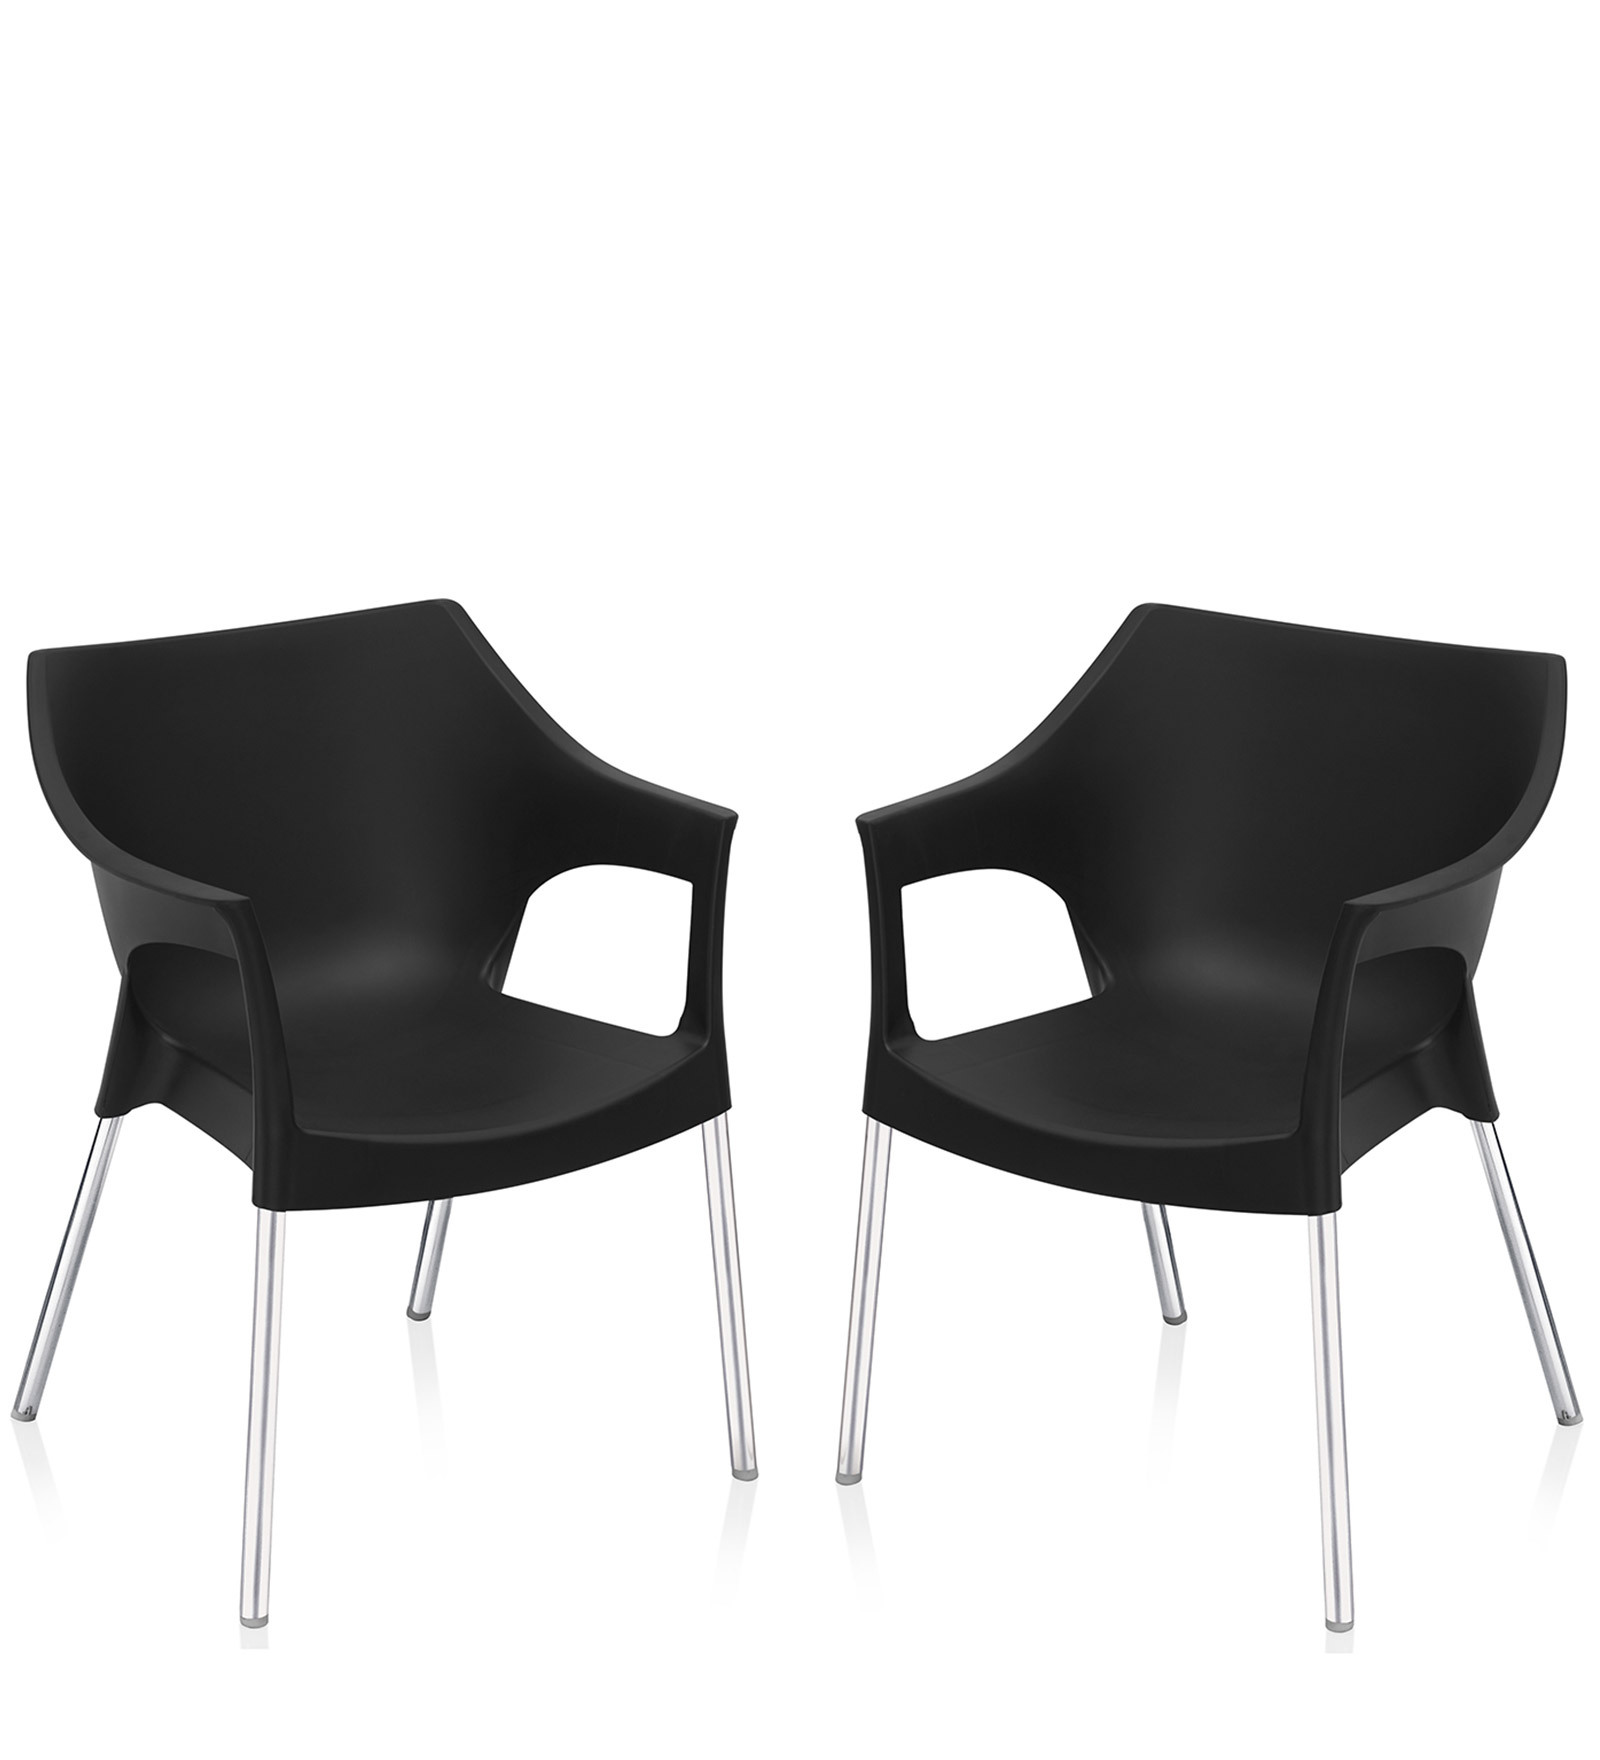Novella Series - 10 Set of 2 Chairs in Black Colour by Nilkamal: (834, 590, 1600, 1634), (12, 593, 769, 1634)
